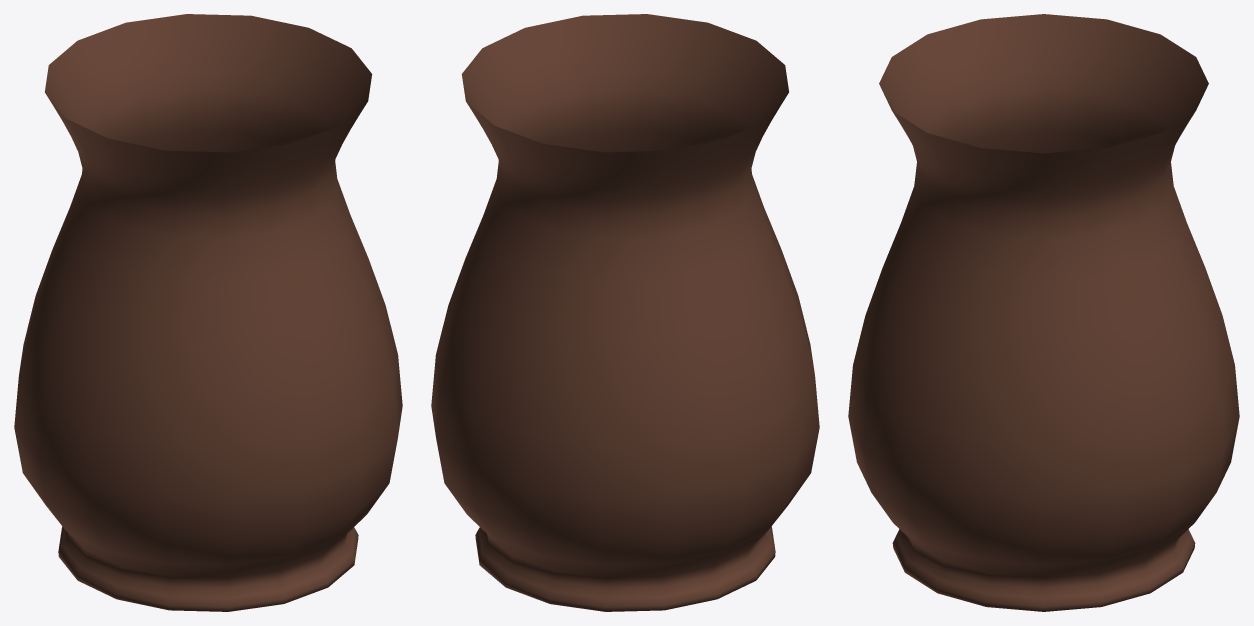
Rendered from vase.fbx.
3 renders of one model, left to right at view 1: azimuth 30°, elevation 25°; view 2: azimuth 150°, elevation 25°; view 3: azimuth 270°, elevation 25°, orthographic.
Visible parts, largest first — view 1: vase; view 2: vase; view 3: vase.
Boxes of the visible parts, x1=… form: vase: x1=14, y1=14, x2=402, y2=611; vase: x1=431, y1=14, x2=819, y2=611; vase: x1=848, y1=14, x2=1239, y2=611.
Bounding box in the file's own units: 96.7 × 127 × 96.7.
